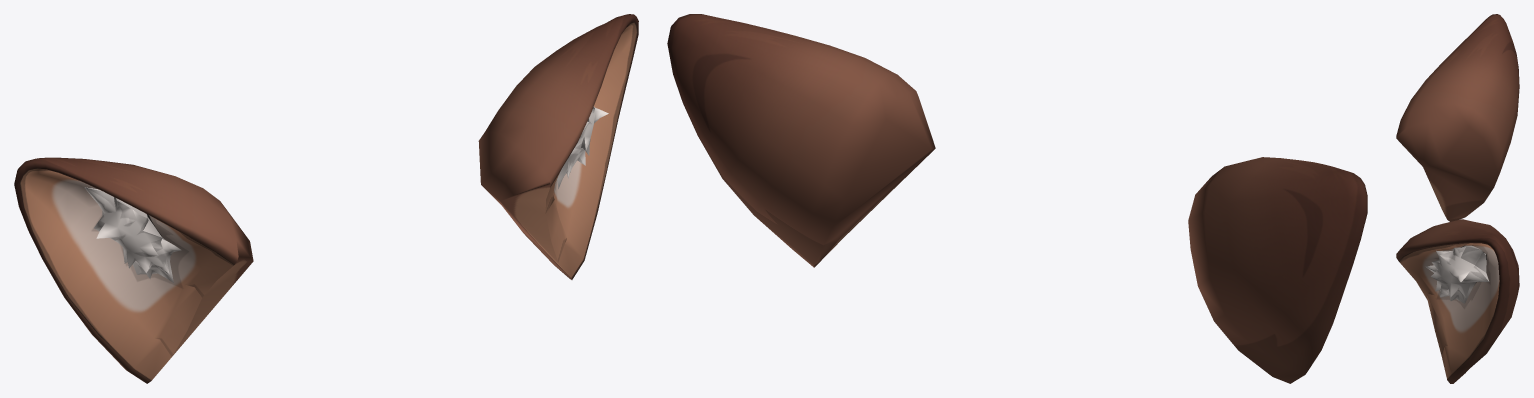
The picture shows the model from 3 angles, left to right: view 1: azimuth 30°, elevation 25°; view 2: azimuth 150°, elevation 25°; view 3: azimuth 270°, elevation 25°; orthographic projection. The views are drawn at different scales.
Visible parts, largest first — view 1: AvatarItem_Marionette_Headdress_Model; view 2: AvatarItem_Marionette_Headdress_Model; view 3: AvatarItem_Marionette_Headdress_Model.
Part boxes in pixels (x1,y1,x2,y2): AvatarItem_Marionette_Headdress_Model: [14, 14, 638, 383]; AvatarItem_Marionette_Headdress_Model: [667, 14, 1367, 383]; AvatarItem_Marionette_Headdress_Model: [1396, 14, 1519, 383].
Bounding box in the file's own units: 0.3157 × 0.1087 × 0.0693.
Materials: 1 (1 with a texture image).
